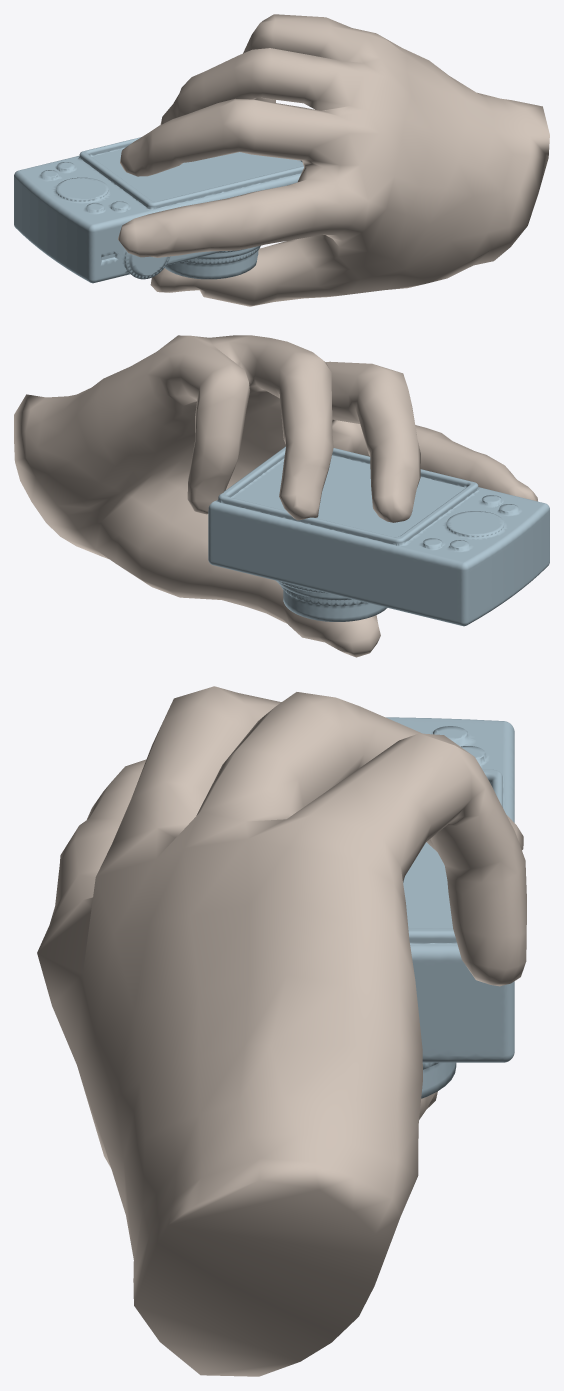
Rendered from ours_0.glb.
3 views of the same model, one above another, from view 1: azimuth 30°, elevation 25°; view 2: azimuth 150°, elevation 25°; view 3: azimuth 270°, elevation 25° (orthographic). The views are drawn at different scales.
Bounding box in the file's own units: 0.2243 × 0.1158 × 0.101.
